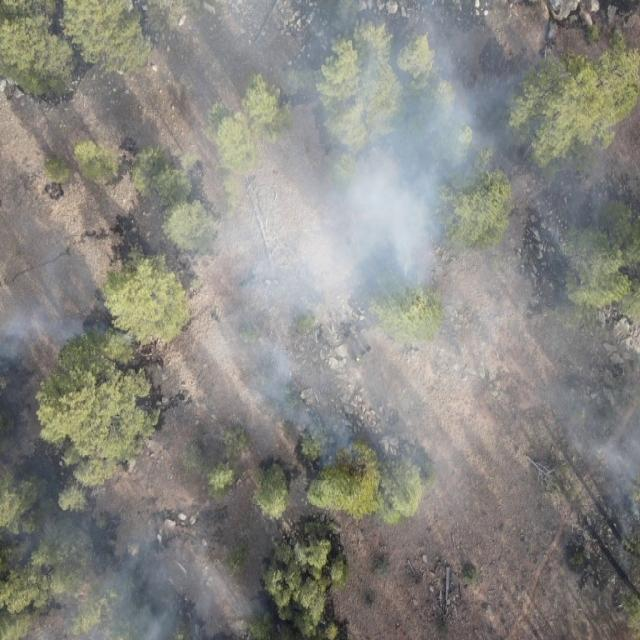fire: (511, 0, 528, 10), (58, 28, 70, 38)
smoke: (152, 0, 530, 408), (532, 90, 640, 518), (39, 519, 244, 640), (0, 265, 116, 373), (256, 390, 370, 472)
